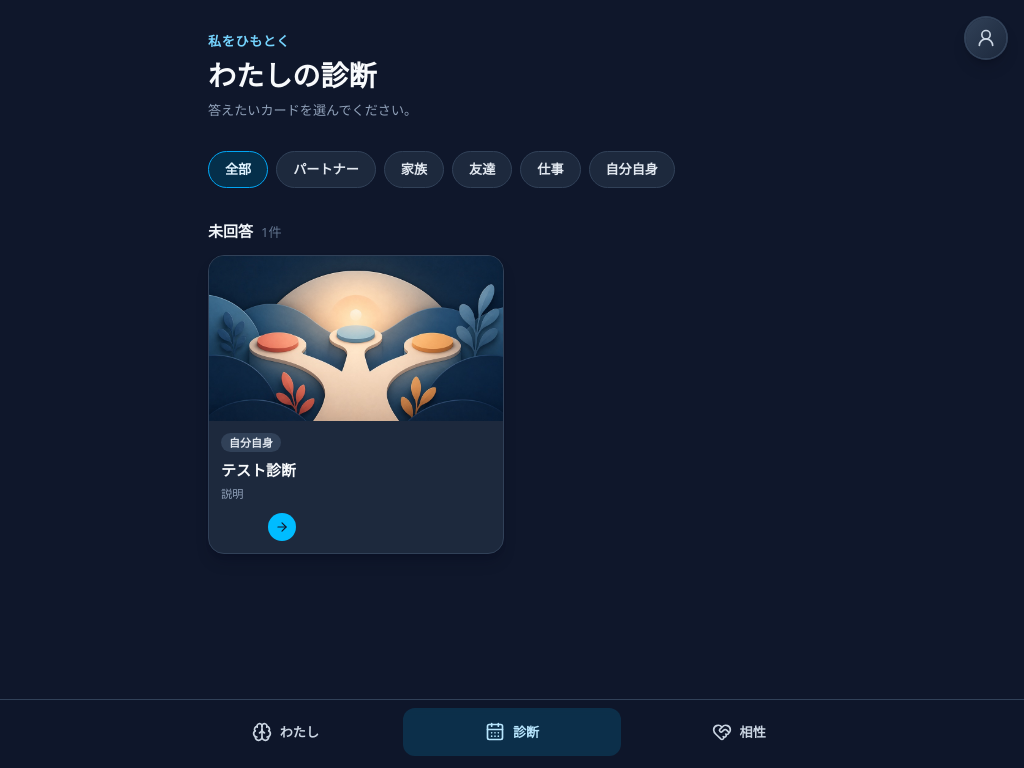
App › dev環境の本人データ削除は確認前に実行できない
Click the button named "プロフィールを開く" at [986, 38], box [964,16,1008,60]
(page scrolled)
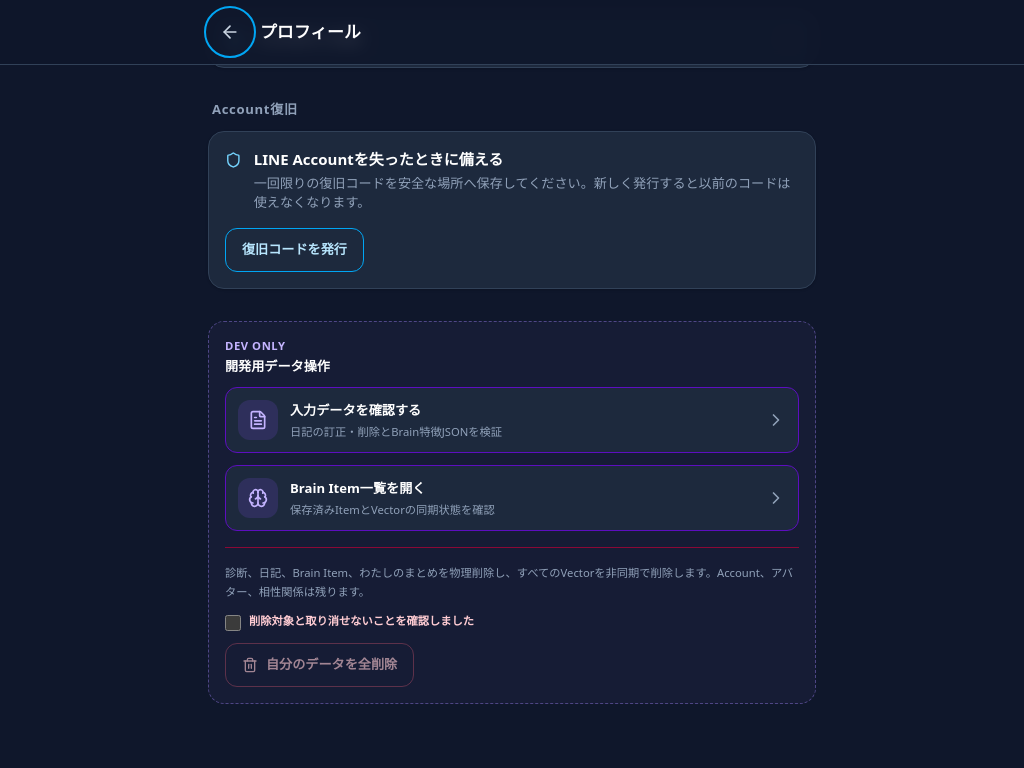
Expected: the button "自分のデータを全削除" is disabled, [225,643,414,687]
